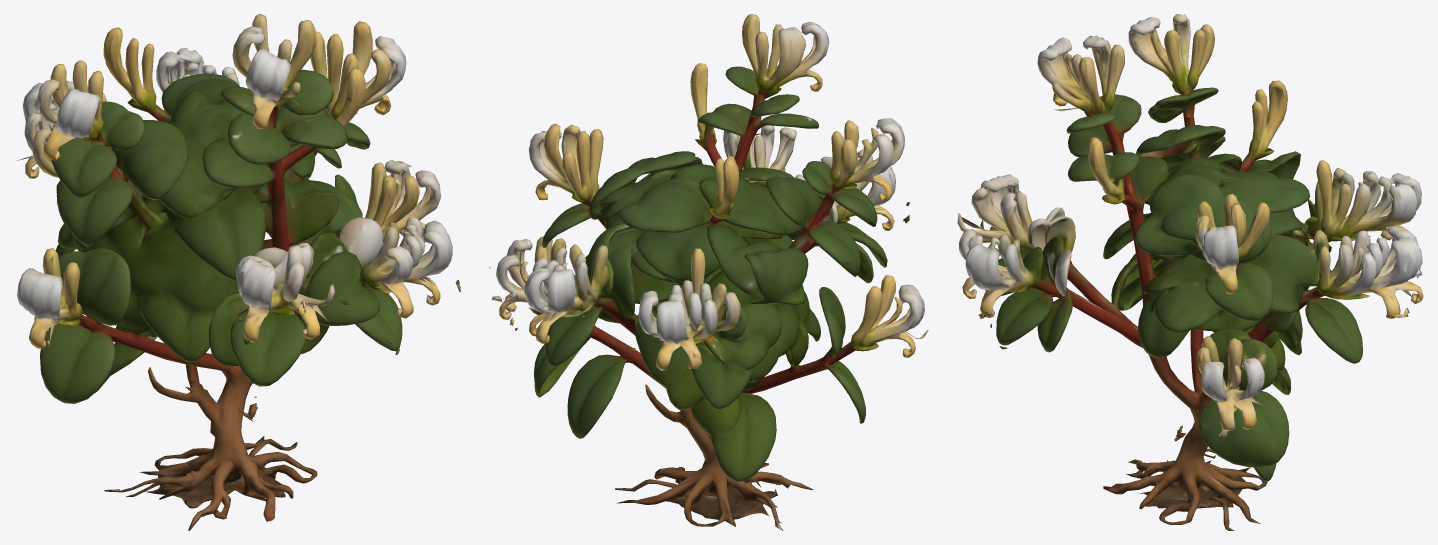
File: jinyinhua.glb
3 views of the same model, side by side, from view 1: azimuth 30°, elevation 25°; view 2: azimuth 150°, elevation 25°; view 3: azimuth 270°, elevation 25° (orthographic). The views are drawn at different scales.
Parts seen in each view (by area): view 1: node_0; view 2: node_0; view 3: node_0.
Boxes of the visible parts, x1,y1,x2,y2 form: node_0: [15, 14, 460, 530]; node_0: [489, 14, 928, 530]; node_0: [957, 14, 1423, 530].
Bounding box in the file's own units: 1.01 × 1.06 × 1.01.
Materials: 1 (1 with a texture image).
